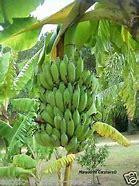banana: (33, 54, 108, 159), (34, 56, 100, 112), (37, 110, 89, 146)
